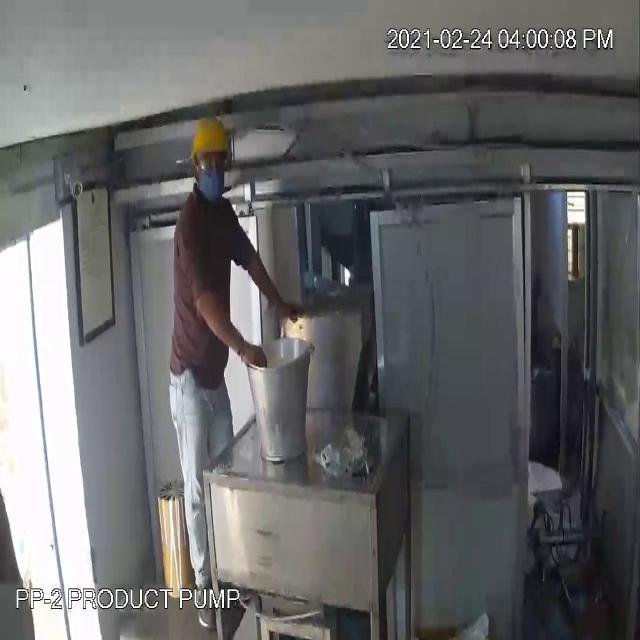helmet: (184, 109, 233, 176)
